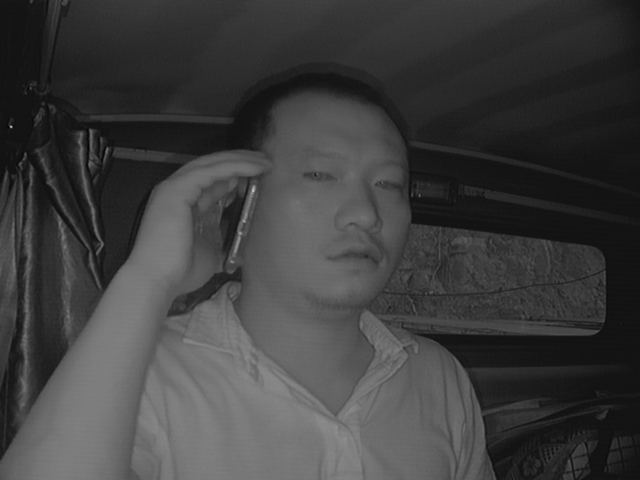hand: (138, 144, 258, 294)
